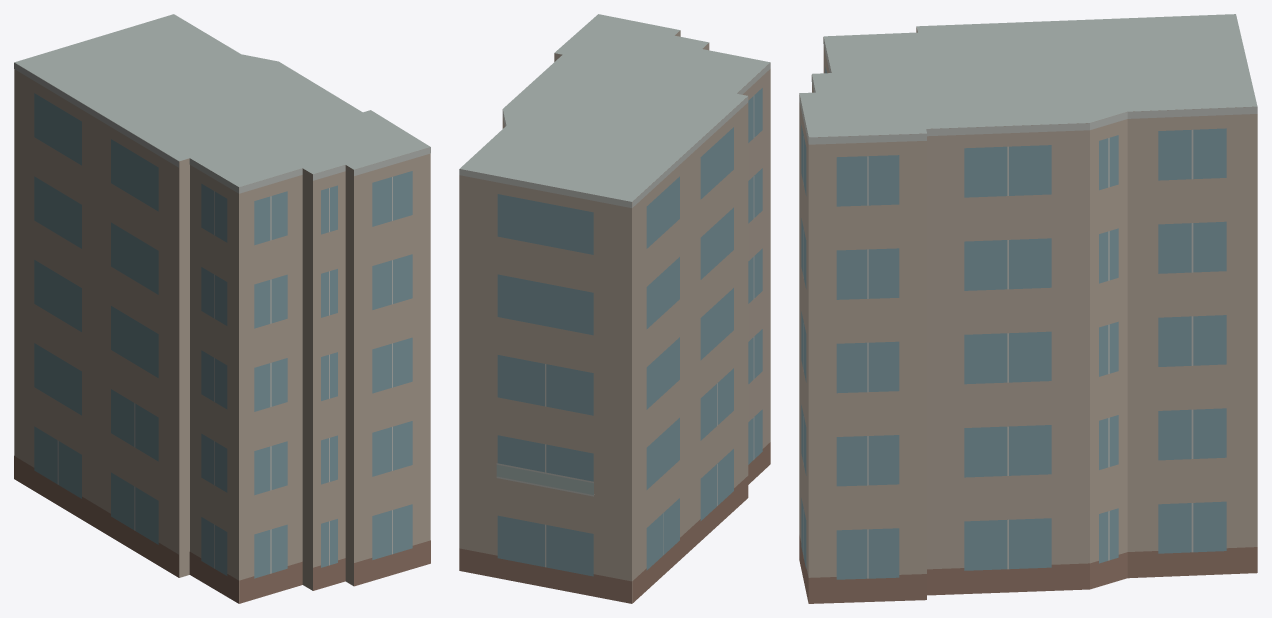
The model's file is survey-upis-33023014.glb.
The picture shows the model from 3 angles, left to right: view 1: azimuth 30°, elevation 25°; view 2: azimuth 150°, elevation 25°; view 3: azimuth 270°, elevation 25°; orthographic projection. The views are drawn at different scales.
Parts seen in each view (by area): view 1: survey-upis-33023014.tmp; view 2: survey-upis-33023014.tmp; view 3: survey-upis-33023014.tmp.
Boxes of the visible parts, x1,y1,x2,y2 form: survey-upis-33023014.tmp: (14,14,430,603); survey-upis-33023014.tmp: (459,14,770,603); survey-upis-33023014.tmp: (799,14,1257,603).
Bounding box in the file's own units: 8.86 × 15.6 × 13.9.
